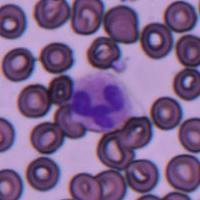N: (69, 71, 134, 134)
